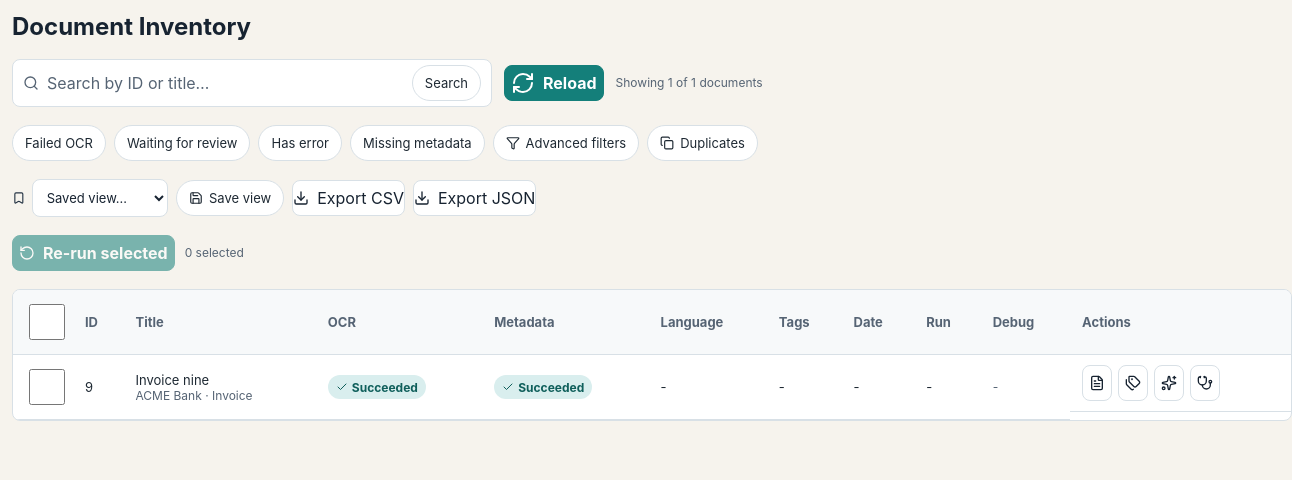
Test: <Inventory> correspondent/type filters, saved views and export (#447) › applies a saved view and saves the current filters as a new one
This screenshot has width=1292, height=480.
Check: the text "Invoice nine" is shown, box [136,372,209,388]
Select "ACME invoices" in the dropdown named "Saved views": point(100, 198) [32,179,168,217]
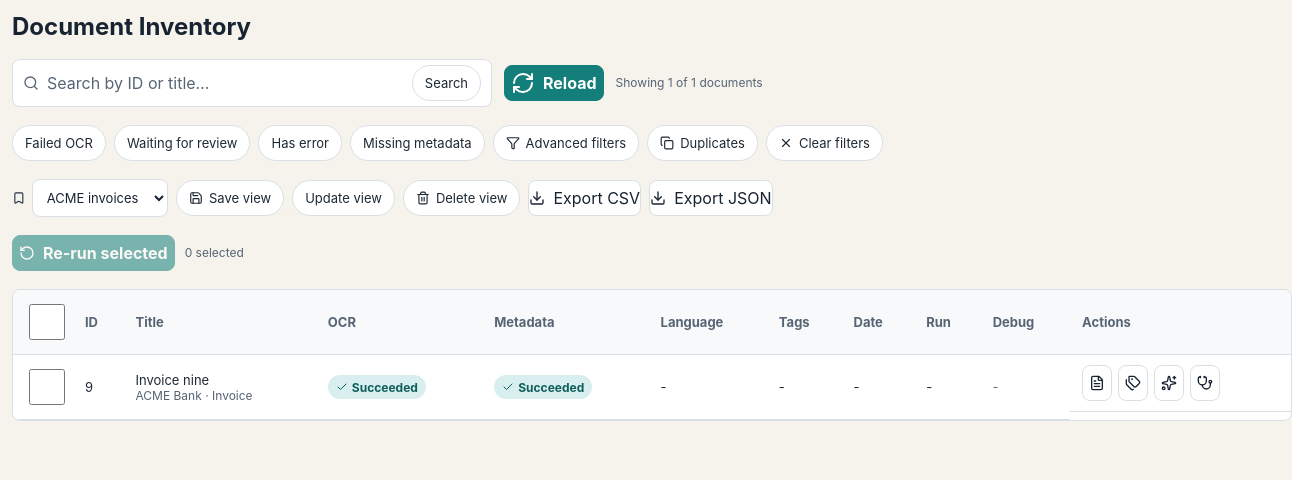
Click the button "Save view": point(230, 198) [176,180,284,216]
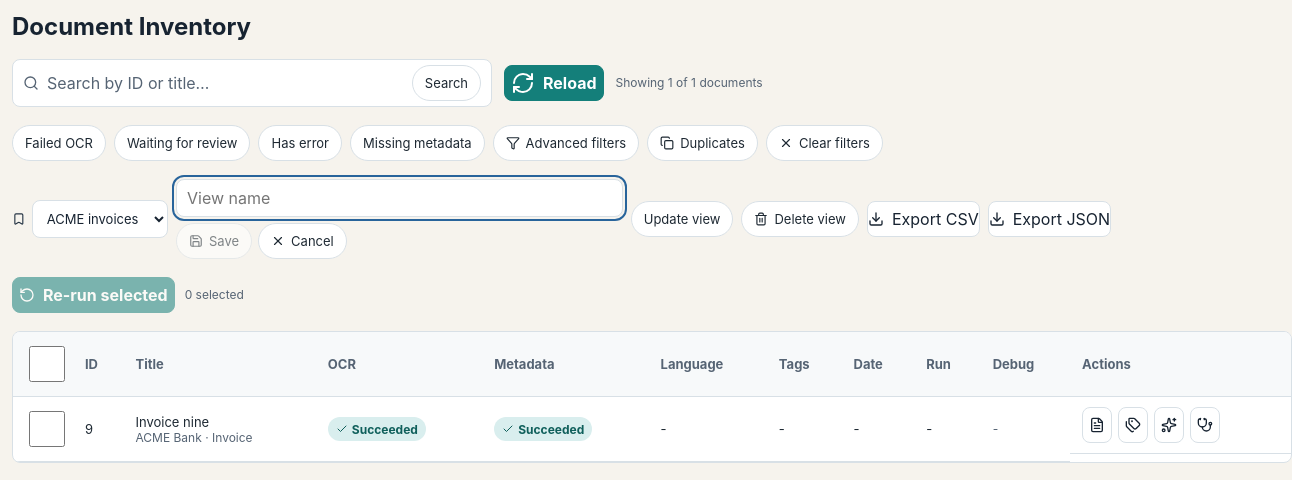
In the field labelled "View name": point(399, 198) [176,179,623,217], type "Mine"
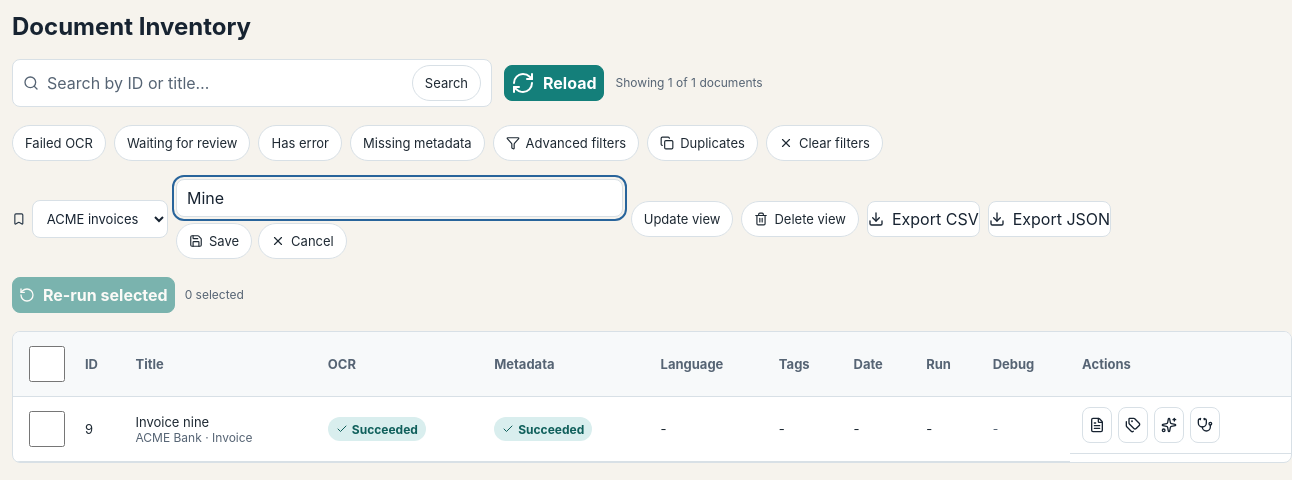
Click the button "Save": point(214, 241) [176,223,252,259]
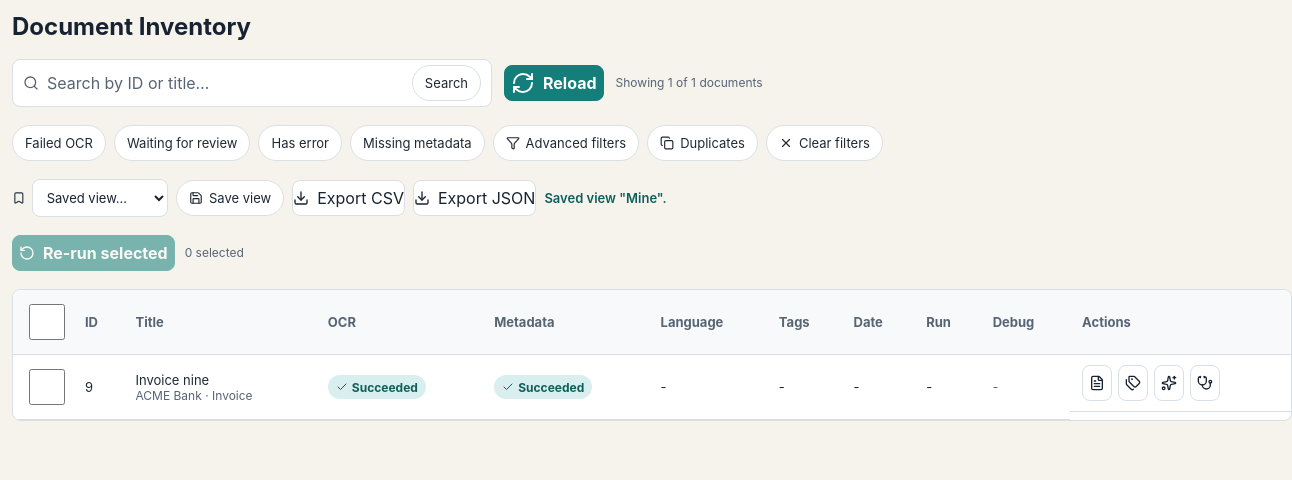
Check: the text "Saved view \"Mine\"." is shown, box [544,189,667,207]
